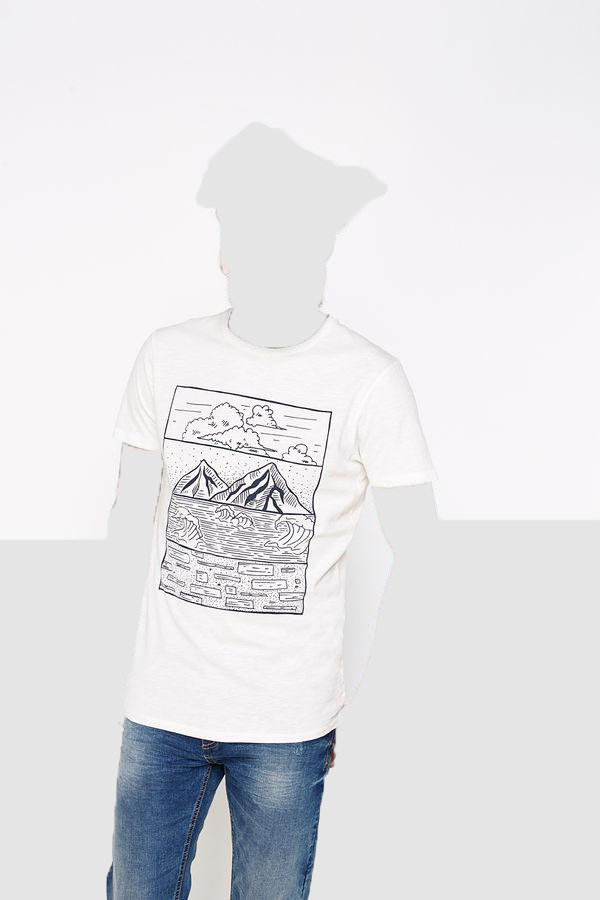teeshirt: (111, 315, 445, 778)
